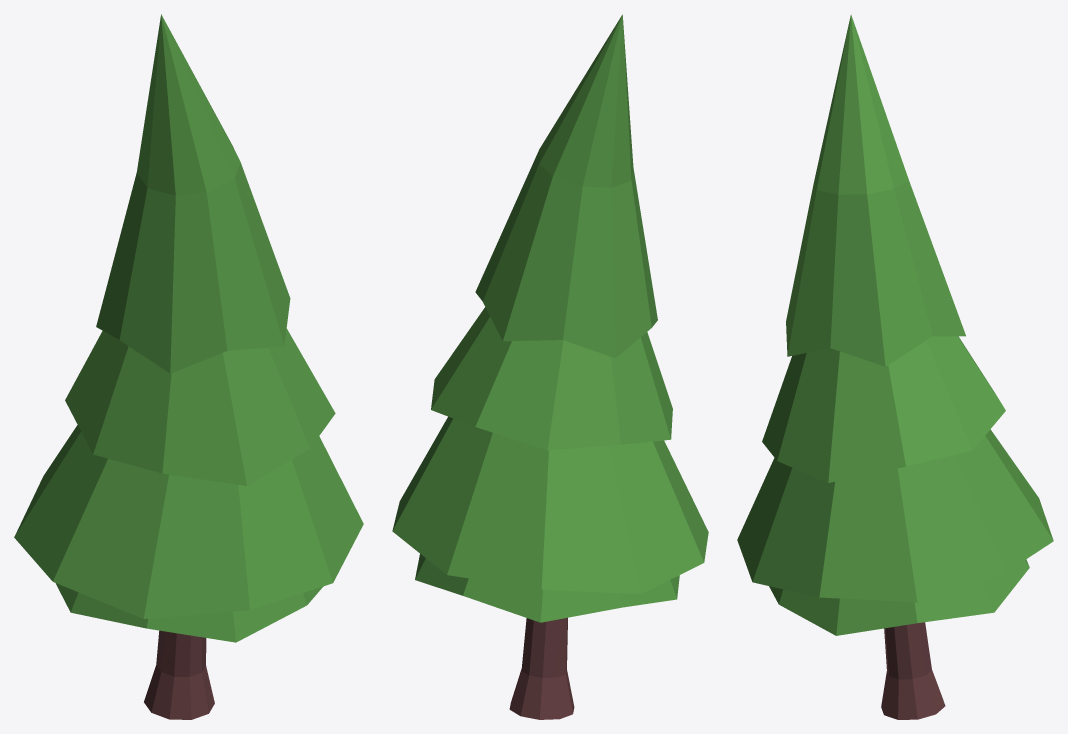
Rendered from pine-1.glb.
3 views of the same model, side by side, from view 1: azimuth 30°, elevation 25°; view 2: azimuth 150°, elevation 25°; view 3: azimuth 270°, elevation 25° (orthographic). The views are drawn at different scales.
Visible parts, largest first — view 1: pine-tree-1.009; view 2: pine-tree-1.009; view 3: pine-tree-1.009.
Part boxes in pixels (<box>): pine-tree-1.009: <box>14,14,363,719</box>; pine-tree-1.009: <box>392,14,708,719</box>; pine-tree-1.009: <box>737,14,1053,719</box>.
Size of the model in its own units: 0.1036 by 0.2418 by 0.1032.
1 material, 1 textured.
